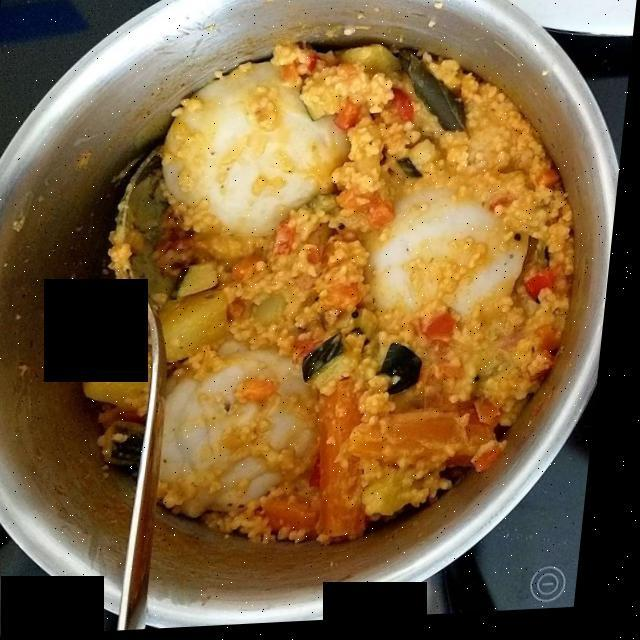carrot: (290, 388, 507, 533)
couscous: (117, 29, 572, 533), (371, 133, 499, 340)
potatoes: (88, 269, 240, 414)
